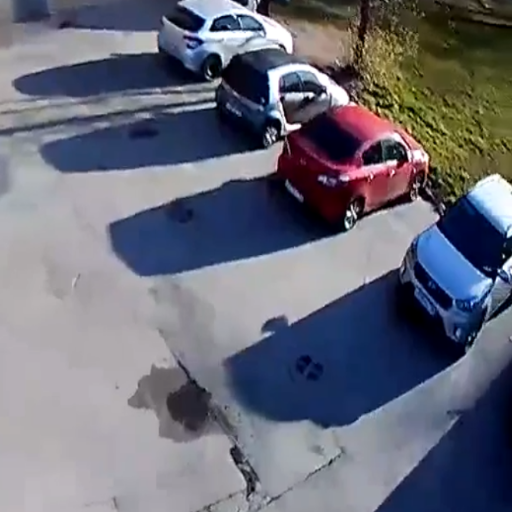Car: (267, 101, 432, 223), (403, 172, 509, 357), (216, 51, 348, 142), (158, 0, 293, 78)
